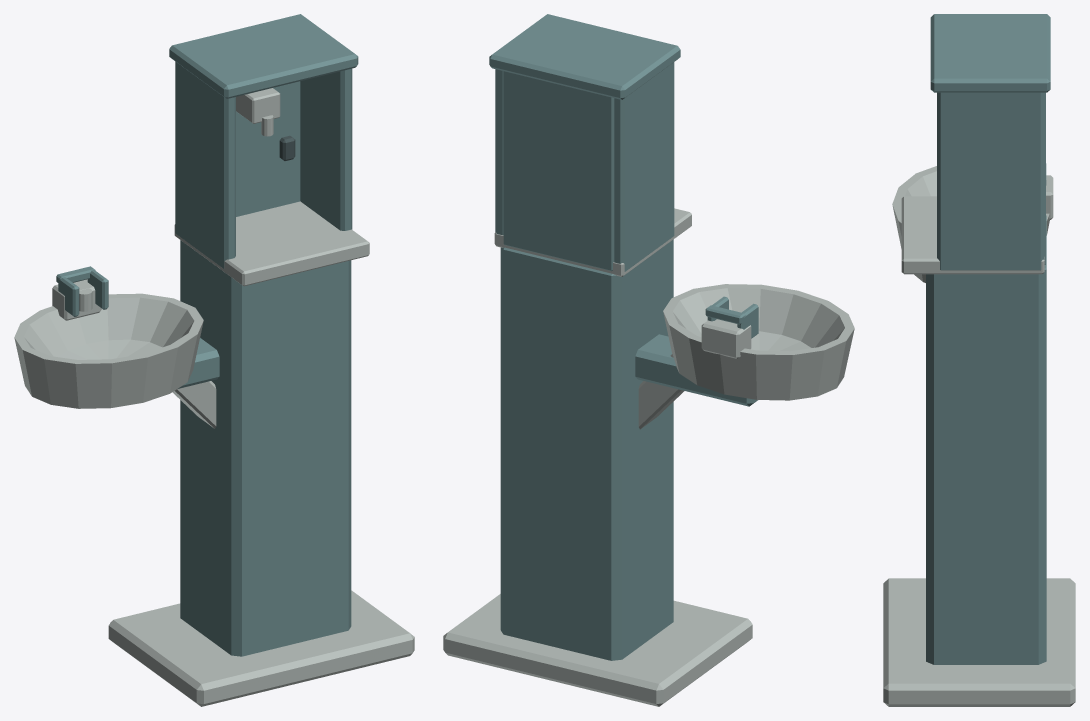
3 views of the same model, side by side, from view 1: azimuth 30°, elevation 25°; view 2: azimuth 150°, elevation 25°; view 3: azimuth 270°, elevation 25° (orthographic). The views are drawn at different scales.
Visible parts, largest first — view 1: Lower pedestal, Continuous open basin with drain recess, Ground plinth, Refill recess sidewall, Refill top hood, Actual cup support ledge, Refill recess sidewall.001, Refill recessed back, Basin diagonal brace, Refill nozzle mounting block, Basin horizontal arm, Bubbler rear mount; view 2: Lower pedestal, Refill recessed back, Continuous open basin with drain recess, Ground plinth, Refill recess sidewall, Refill top hood, Basin horizontal arm, Bubbler rear mount, Refill recess sidewall.001, Basin diagonal brace, Actual cup support ledge; view 3: Lower pedestal, Refill recess sidewall.001, Ground plinth, Refill top hood, Actual cup support ledge, Continuous open basin with drain recess, Refill recessed back, Bubbler rear mount.
Boxes of the visible parts, x1=… form: Lower pedestal: x1=180, y1=240, x2=351, y2=656; Continuous open basin with drain recess: x1=14, y1=293, x2=203, y2=408; Ground plinth: x1=108, y1=590, x2=414, y2=706; Refill recess sidewall: x1=175, y1=61, x2=235, y2=268; Refill top hood: x1=169, y1=14, x2=358, y2=98; Actual cup support ledge: x1=174, y1=201, x2=369, y2=286; Refill recess sidewall.001: x1=300, y1=68, x2=352, y2=230; Refill recessed back: x1=236, y1=81, x2=300, y2=216; Basin diagonal brace: x1=172, y1=381, x2=216, y2=428; Refill nozzle mounting block: x1=236, y1=88, x2=280, y2=123; Basin horizontal arm: x1=178, y1=338, x2=219, y2=388; Bubbler rear mount: x1=52, y1=279, x2=101, y2=320; Lower pedestal: x1=500, y1=239, x2=673, y2=660; Refill recessed back: x1=503, y1=71, x2=614, y2=271; Continuous open basin with drain recess: x1=663, y1=284, x2=854, y2=400; Ground plinth: x1=443, y1=594, x2=752, y2=706; Refill recess sidewall: x1=614, y1=62, x2=674, y2=271; Refill top hood: x1=489, y1=14, x2=680, y2=99; Basin horizontal arm: x1=635, y1=334, x2=757, y2=406; Bubbler rear mount: x1=701, y1=319, x2=751, y2=358; Refill recess sidewall.001: x1=495, y1=69, x2=503, y2=234; Basin diagonal brace: x1=638, y1=354, x2=684, y2=429; Actual cup support ledge: x1=494, y1=208, x2=691, y2=276; Lower pedestal: x1=926, y1=215, x2=1046, y2=664; Refill recess sidewall.001: x1=937, y1=92, x2=1044, y2=270; Ground plinth: x1=883, y1=578, x2=1075, y2=706; Refill top hood: x1=930, y1=14, x2=1050, y2=92; Actual cup support ledge: x1=901, y1=196, x2=1044, y2=274; Continuous open basin with drain recess: x1=892, y1=166, x2=1049, y2=282; Refill recessed back: x1=1044, y1=92, x2=1045, y2=264; Bubbler rear mount: x1=1046, y1=175, x2=1053, y2=219.
Bounding box in the file's own units: 0.935 × 1.51 × 0.43.
